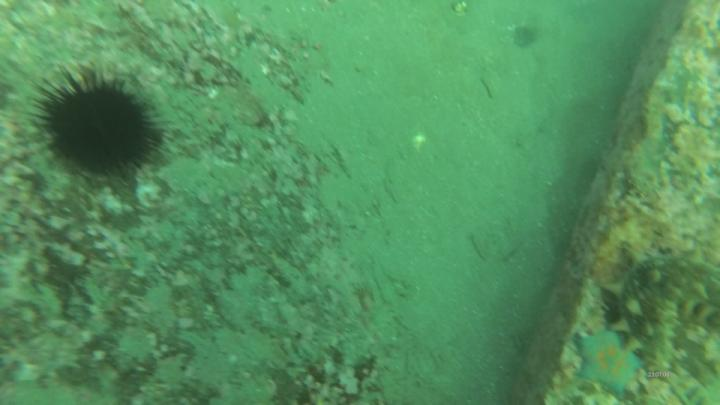echinus: (37, 69, 166, 186)
holothurian: (609, 252, 720, 376)
starfish: (574, 328, 646, 398)
